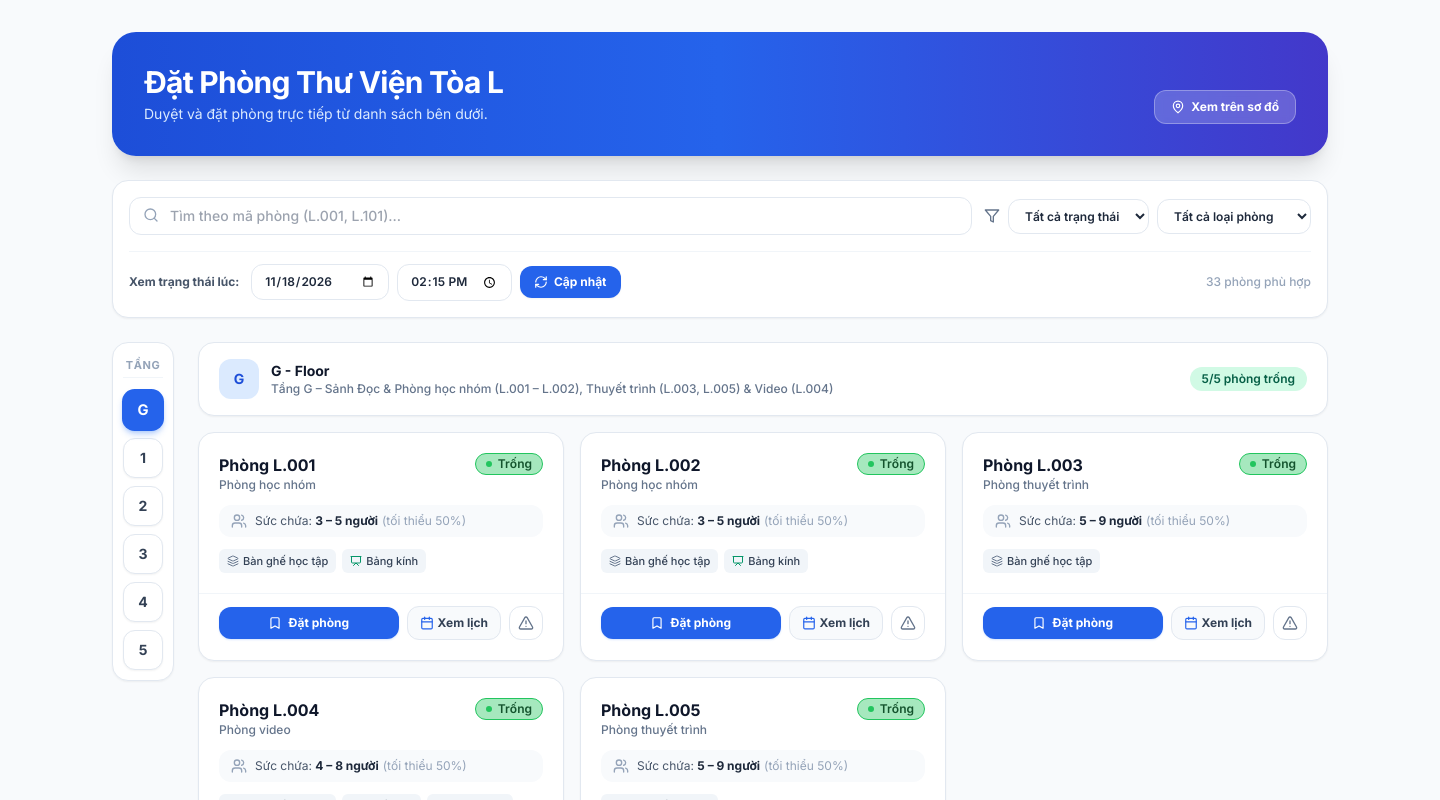
Test case: FloorBrowserPage › khi lọc từ khóa làm một tầng không có phòng nào thì nút tầng đó bị vô hiệu hóa (disabled)
Check: the text "Tầng G – Sảnh Đọc" is shown, box [271, 381, 833, 396]
Note: Tìm kiếm phòng L.101 (chỉ có ở tầng 1)
Type "L.101" into the field with placeholder "Tìm theo mã phòng (L.001, L.101)...". click: (550, 216)
box: [129, 197, 972, 235]
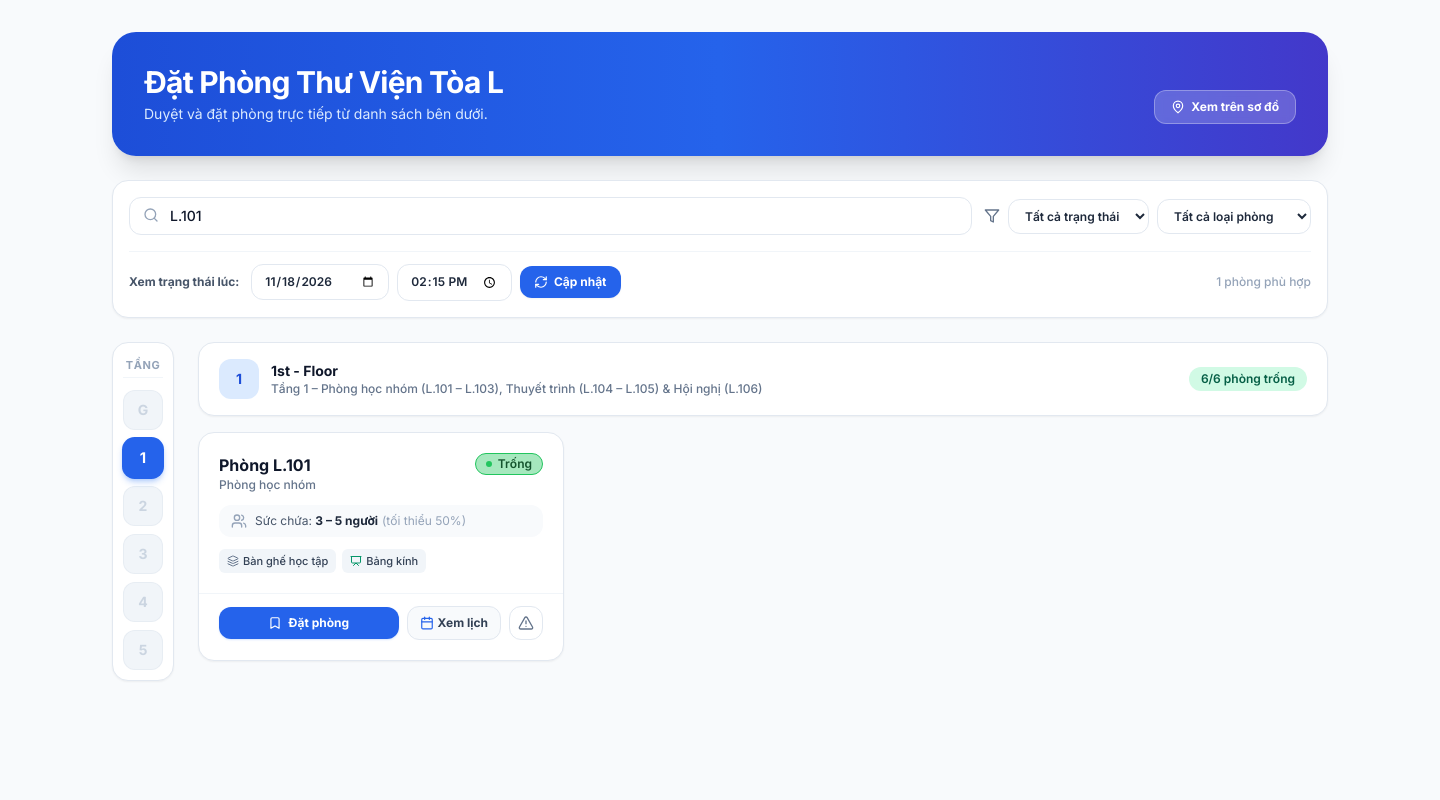
Check: the button named "Tầng 1" is enabled, box [122, 437, 164, 479]
Check: the button named "Tầng G" is disabled, box [123, 390, 163, 430]
Check: the button named "Tầng 2" is disabled, box [123, 486, 163, 526]
